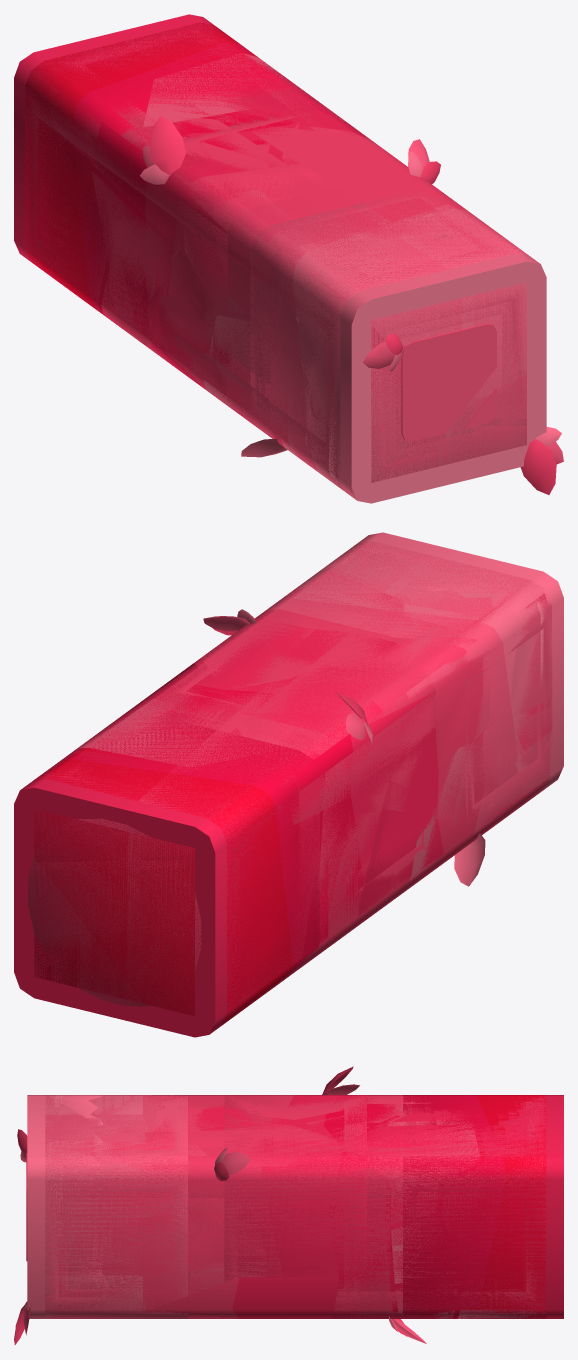
The model's file is Column (3).fbx.
3 views of the same model, one above another, from view 1: azimuth 30°, elevation 25°; view 2: azimuth 150°, elevation 25°; view 3: azimuth 270°, elevation 25° (orthographic). The views are drawn at different scales.
Parts seen in each view (by area): view 1: Base.171, Base.178, Base.183, Base.180, Base.182, Base.187, Base.181, Base.172, Base.186, Base.174, Base.177, Base.173 (+1 smaller); view 2: Base.171, Base.182, Base.178, Base.183, Base.180, Base.179, Base.187, Cube.020, Base.186, Base.181, Base.174, Base.173 (+2 smaller); view 3: Base.171, Base.173, Base.178, Base.182, Base.172, Base.180, Base.174, Base.181, Base.186, Base.187, Base.183, Base.177 (+1 smaller).
Part boxes in pixels (box(x1,y1,x2,y2)): Base.171: box(25, 23, 526, 489); Base.178: box(25, 24, 527, 485); Base.183: box(14, 14, 546, 503); Base.180: box(25, 25, 526, 477); Base.182: box(25, 25, 499, 470); Base.187: box(25, 22, 563, 494); Base.181: box(59, 25, 526, 477); Base.172: box(25, 23, 528, 487); Base.186: box(25, 24, 526, 473); Base.174: box(25, 23, 528, 479); Base.177: box(25, 26, 526, 482); Base.173: box(25, 23, 513, 476); Base.171: box(33, 541, 550, 1025); Base.182: box(36, 546, 548, 1015); Base.178: box(34, 541, 552, 1020); Base.183: box(14, 532, 563, 1037); Base.180: box(41, 543, 552, 1005); Base.179: box(34, 543, 523, 1015); Base.187: box(35, 544, 551, 1014); Cube.020: box(28, 818, 201, 1006); Base.186: box(41, 543, 549, 999); Base.181: box(206, 552, 545, 886); Base.174: box(35, 542, 549, 1020); Base.173: box(52, 543, 549, 1010); Base.171: box(45, 1095, 545, 1318); Base.173: box(45, 1095, 545, 1309); Base.178: box(45, 1095, 545, 1318); Base.182: box(45, 1095, 545, 1318); Base.172: box(45, 1095, 545, 1318); Base.180: box(45, 1095, 545, 1318); Base.174: box(45, 1095, 545, 1318); Base.181: box(26, 1095, 545, 1317); Base.186: box(45, 1095, 545, 1318); Base.187: box(14, 1066, 547, 1344); Base.183: box(27, 1095, 563, 1318); Base.177: box(45, 1096, 545, 1309).
Size of the model in its own units: 1.18 by 1.3 by 3.07.
Materials: 1 (1 with a texture image).
